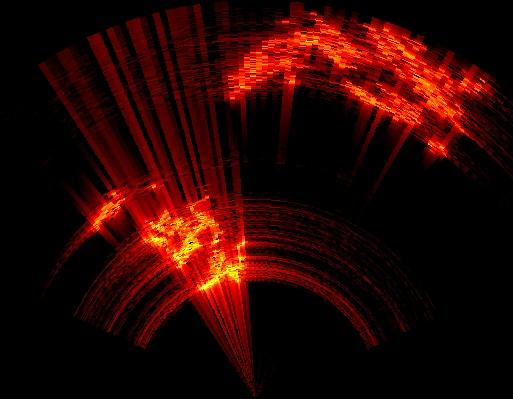shipwreck: (229, 22, 453, 110), (143, 200, 244, 292), (346, 84, 419, 125), (89, 191, 128, 234), (428, 111, 466, 155), (443, 65, 492, 93)
